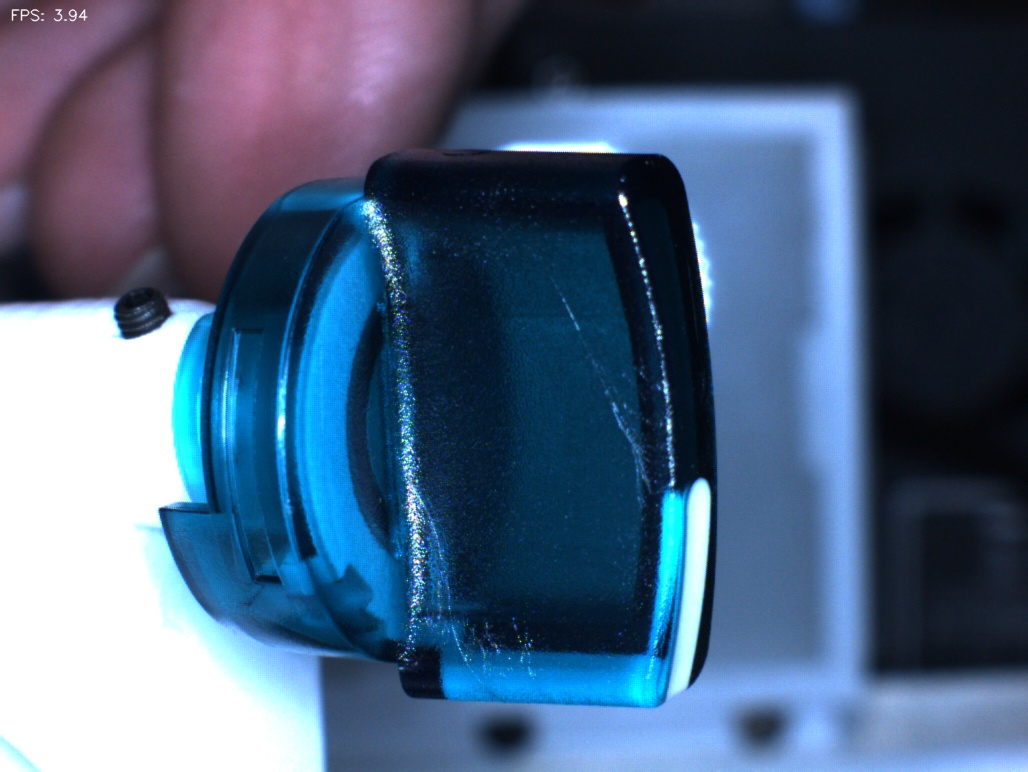Givrage: (438, 591, 567, 686)
